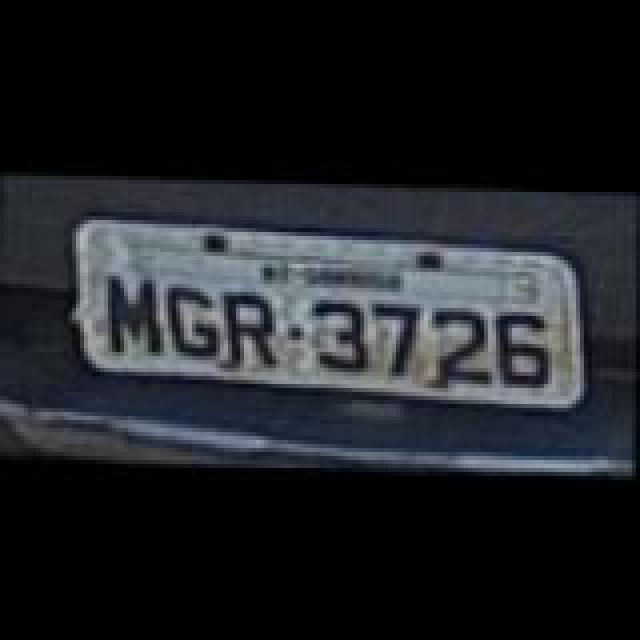2: (432, 304, 500, 384)
3: (310, 296, 374, 368)
6: (494, 306, 558, 386)
7: (372, 300, 432, 376)
G: (168, 278, 228, 354)
M: (104, 268, 172, 352)
R: (218, 286, 282, 362)
